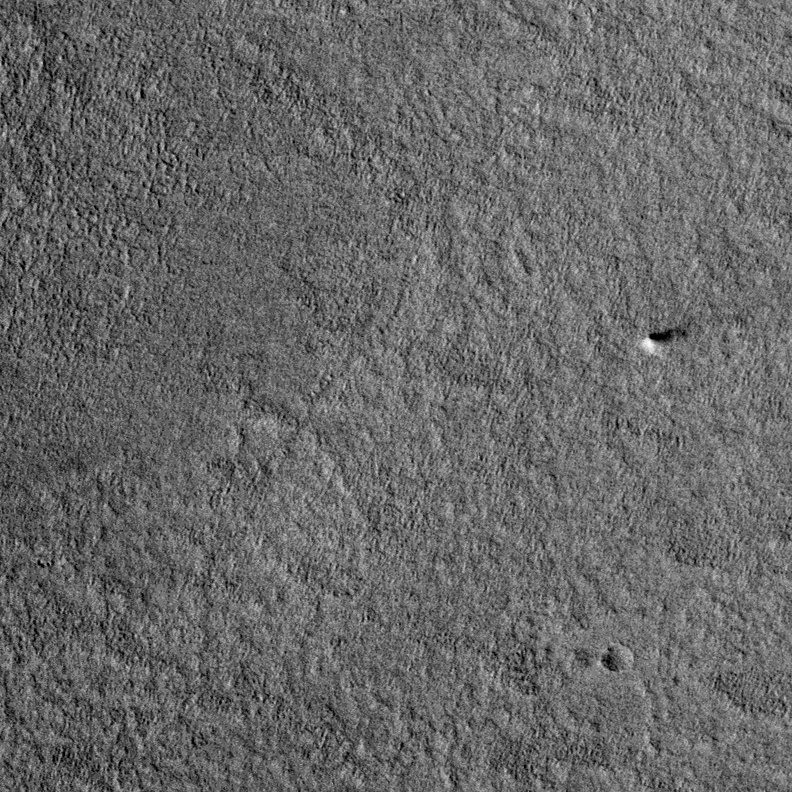dust_devil: (641, 326, 690, 356)
